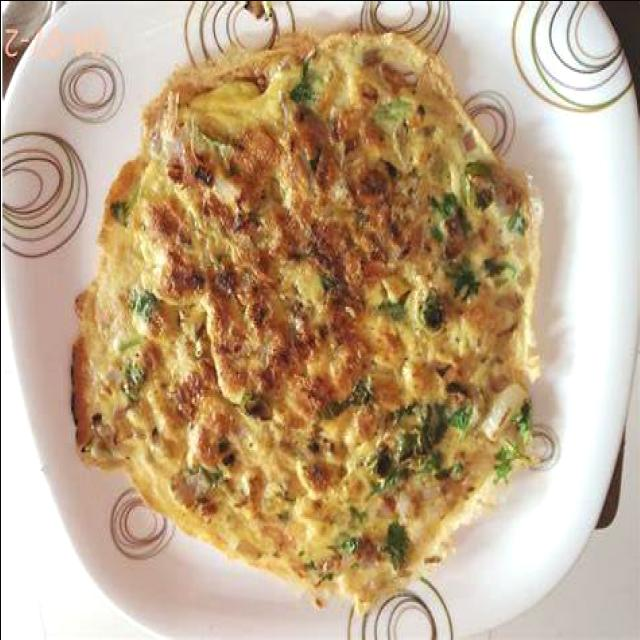telur dadar: (69, 0, 559, 615)
